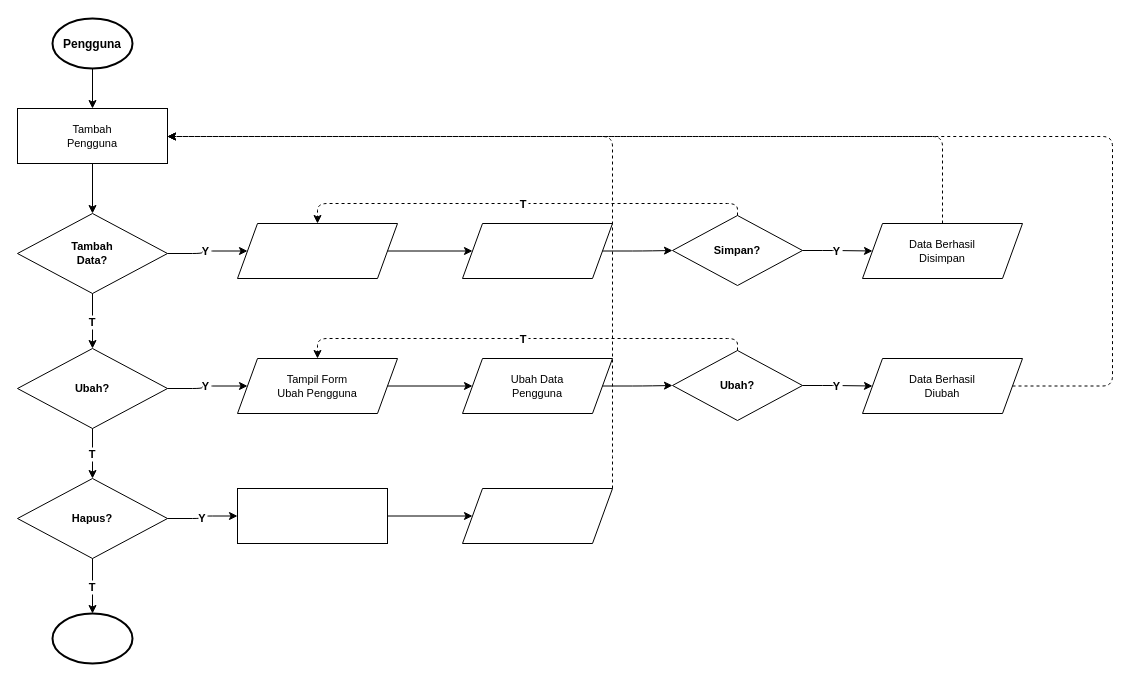
This 1138x681 diagram has some shape labels left out. The box of each missing label's shape, as (x1, y1, x2, y2) in pixels:
Data di Hapus: (462, 488, 612, 544)
Input Data Pengguna: (462, 222, 612, 278)
Menu: (51, 612, 133, 664)
Pesan Konfirmasi: (236, 488, 388, 544)
Tampil Form Tambah Pengguna: (236, 222, 398, 278)
